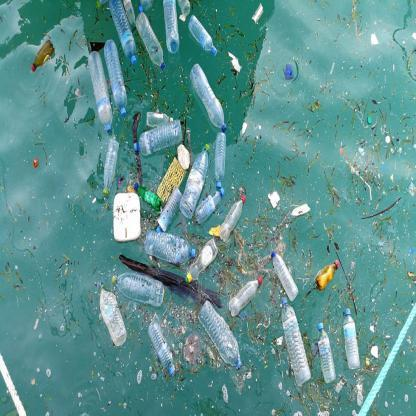Rác: (195, 298, 245, 370), (278, 293, 312, 386), (188, 70, 232, 134), (84, 52, 116, 134), (111, 269, 167, 311), (101, 42, 130, 122), (95, 280, 131, 344), (266, 245, 304, 302), (146, 227, 198, 268), (147, 314, 180, 378), (107, 3, 139, 66), (229, 271, 269, 319), (134, 21, 170, 70), (317, 321, 341, 383), (220, 190, 247, 243), (133, 118, 184, 146), (187, 22, 221, 57), (161, 0, 182, 56), (344, 306, 362, 370), (156, 188, 182, 230), (198, 184, 226, 222), (130, 182, 162, 214), (105, 134, 119, 202), (192, 142, 204, 220), (315, 254, 341, 289), (30, 36, 54, 71), (214, 128, 228, 184), (249, 3, 267, 23), (291, 204, 311, 216), (284, 60, 294, 77), (369, 31, 380, 40), (407, 268, 415, 278), (384, 132, 390, 142), (367, 117, 373, 125)
